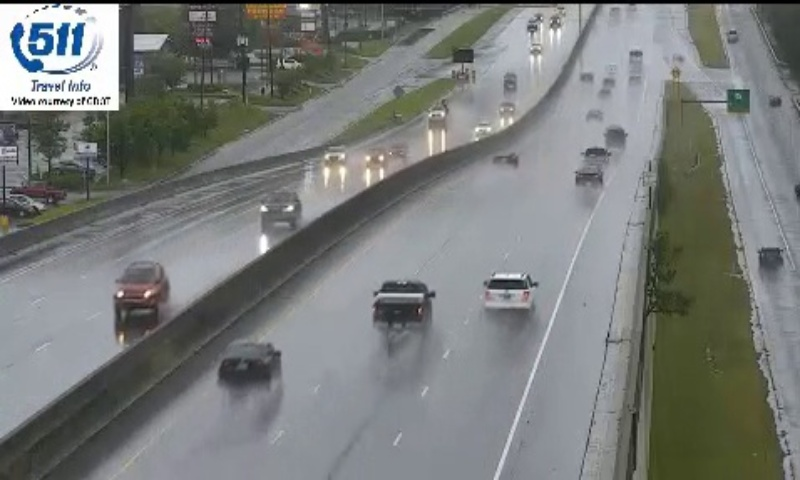car: (217, 340, 279, 386), (373, 280, 431, 327), (483, 272, 535, 312)
